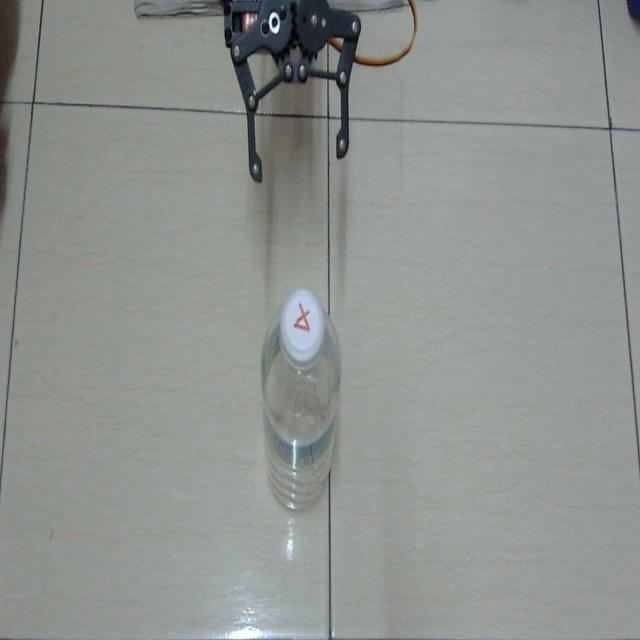Plastic-stand-rotation: (252, 276, 345, 524)
